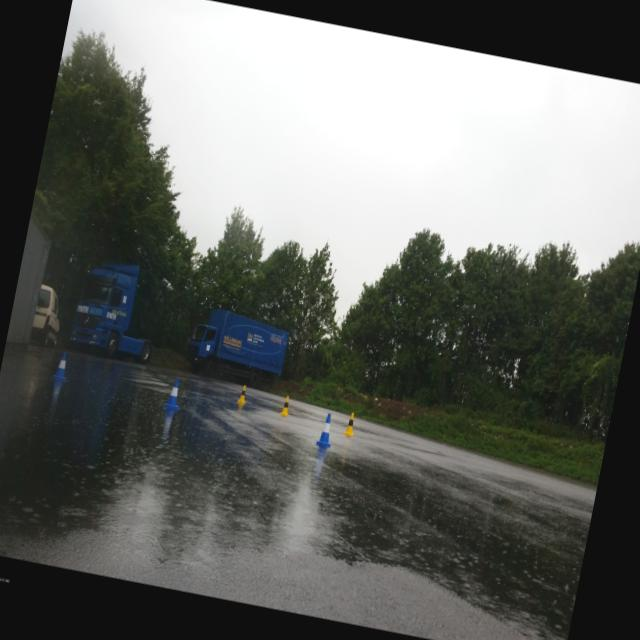blue_cone: (315, 412, 336, 448), (164, 377, 186, 410), (50, 351, 72, 382)
yellow_cone: (343, 412, 358, 437), (280, 396, 292, 416), (237, 385, 249, 404)
